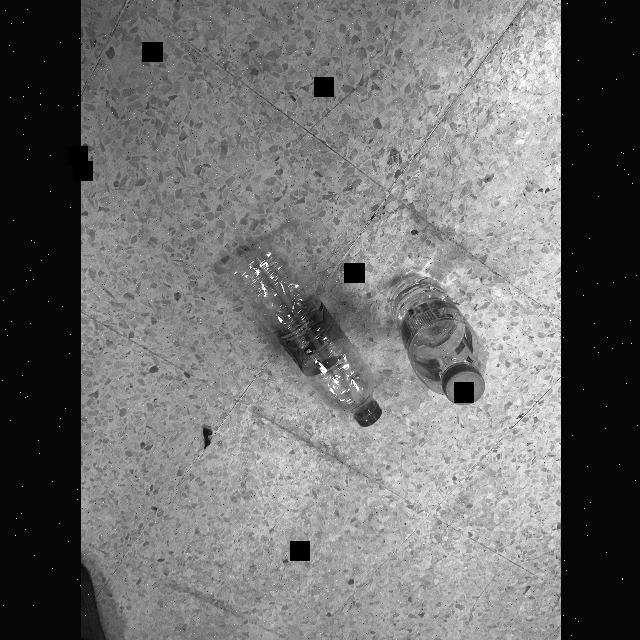plastic_bottle: (219, 238, 381, 426), (389, 274, 483, 404)
